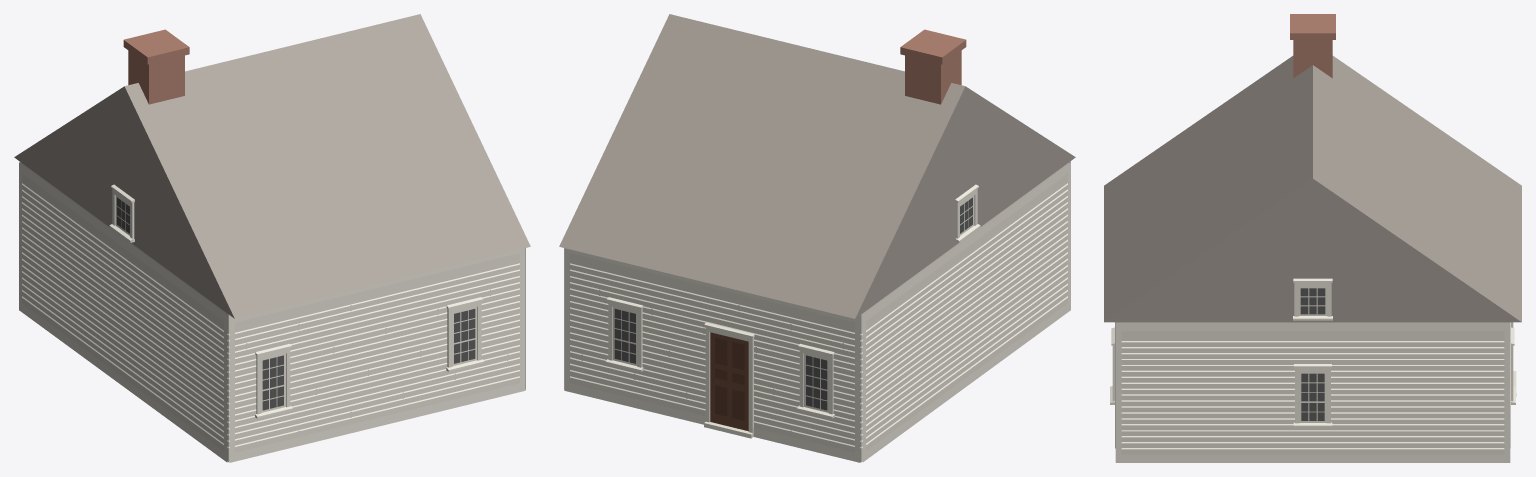
The model's file is recon_1835_blk_west_randolph_des_plaines_d6_03__inferred_1835.glb.
3 views of the same model, side by side, from view 1: azimuth 30°, elevation 25°; view 2: azimuth 150°, elevation 25°; view 3: azimuth 270°, elevation 25° (orthographic). The views are drawn at different scales.
Parts seen in each view (by area): view 1: recon_1835_blk_west_randolph_des_plaines_d6_03__inferred_183; view 2: recon_1835_blk_west_randolph_des_plaines_d6_03__inferred_183; view 3: recon_1835_blk_west_randolph_des_plaines_d6_03__inferred_183.
Boxes of the visible parts, <box> form: recon_1835_blk_west_randolph_des_plaines_d6_03__inferred_183: <box>14,14,530,462</box>; recon_1835_blk_west_randolph_des_plaines_d6_03__inferred_183: <box>559,14,1075,462</box>; recon_1835_blk_west_randolph_des_plaines_d6_03__inferred_183: <box>1104,14,1521,462</box>.
Size of the model in its own units: 7.14 by 7.48 by 8.94.
